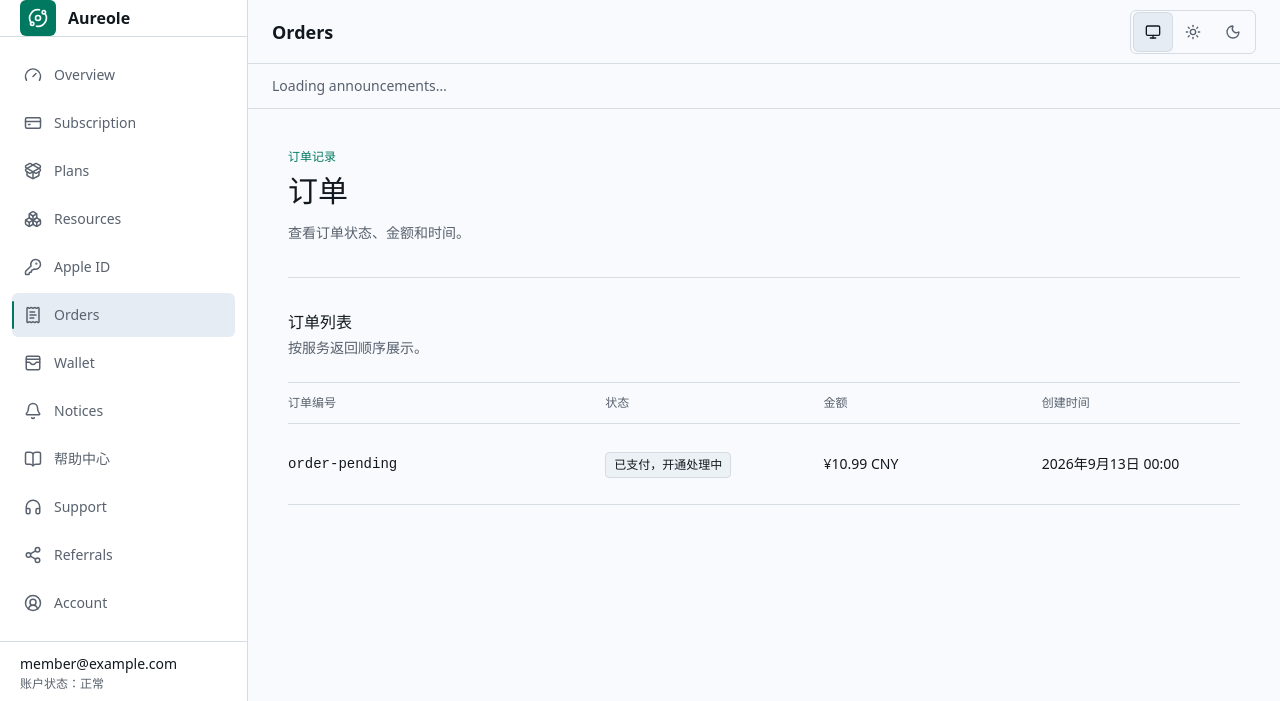
Order Cancel flow › does not offer Cancel for authoritative processing Detail
The width and height of the screenshot is (1280, 701).
Step 1. Click the button "order-pending 已支付，开通处理中 ¥10.99 CNY 2026年9月13日 00:00" → [343, 464], box [288,424,1240,504]
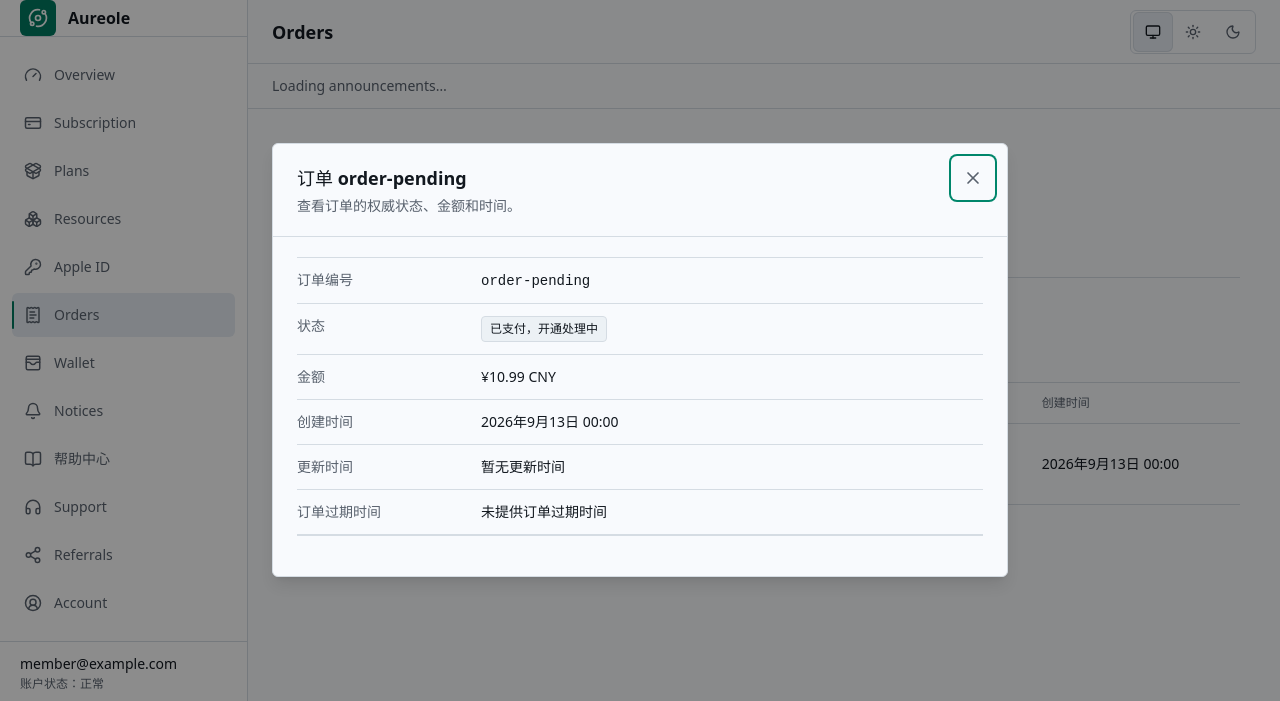
Check: the heading "订单 order-pending" is shown, box [297,166,467,190]
Check: the text "已支付，开通处理中" is shown, box [481,316,607,342]
